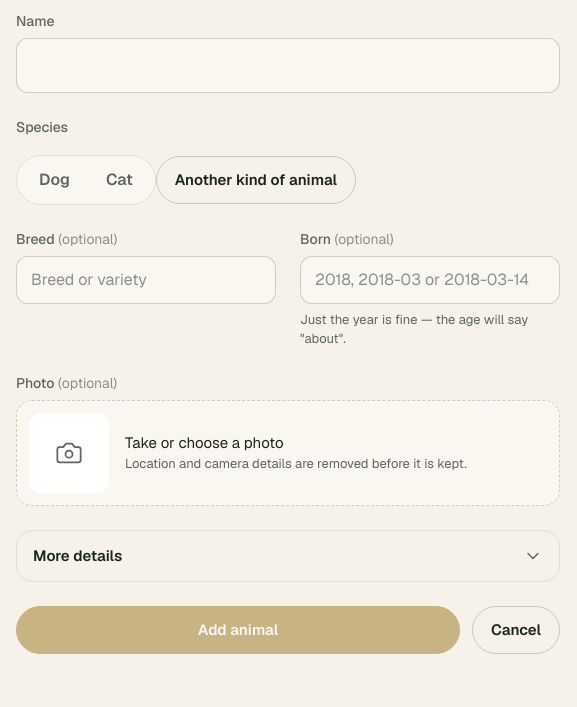
Test: AnimalForm: any kind of animal › if the species list cannot load, Dog, Cat and "another kind" are still there
Expected: the button "Dog" is shown, [21,160,88,200]
Expected: the button "Cat" is shown, [88,160,151,200]
Click the button "Another kind of animal" at {"x": 256, "y": 180}, box [156,156,356,204]
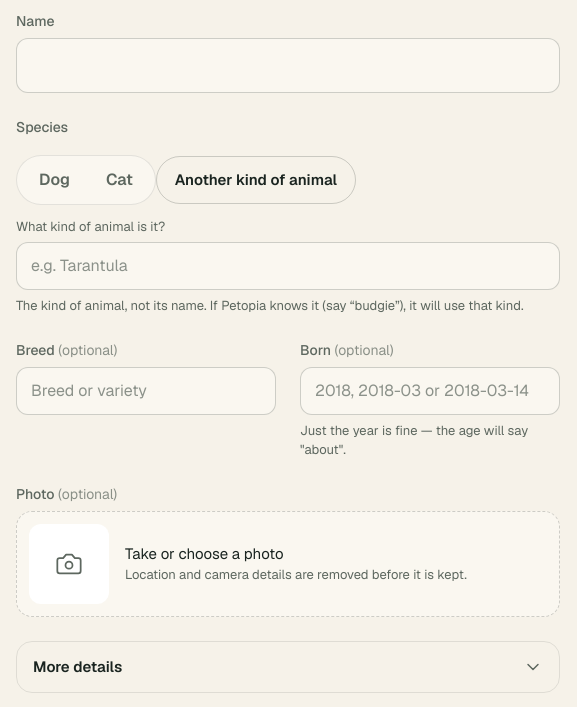
Now the field labelled "What kind of animal is it?" is shown, box [16,242,560,290]
